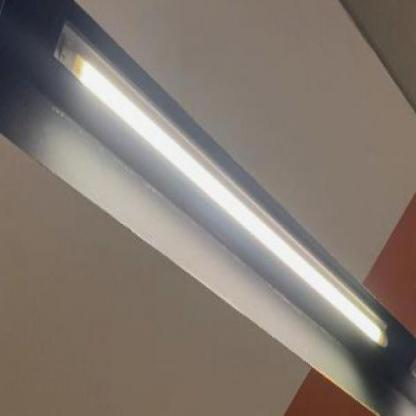light_on: (44, 21, 397, 370), (410, 348, 415, 415)
